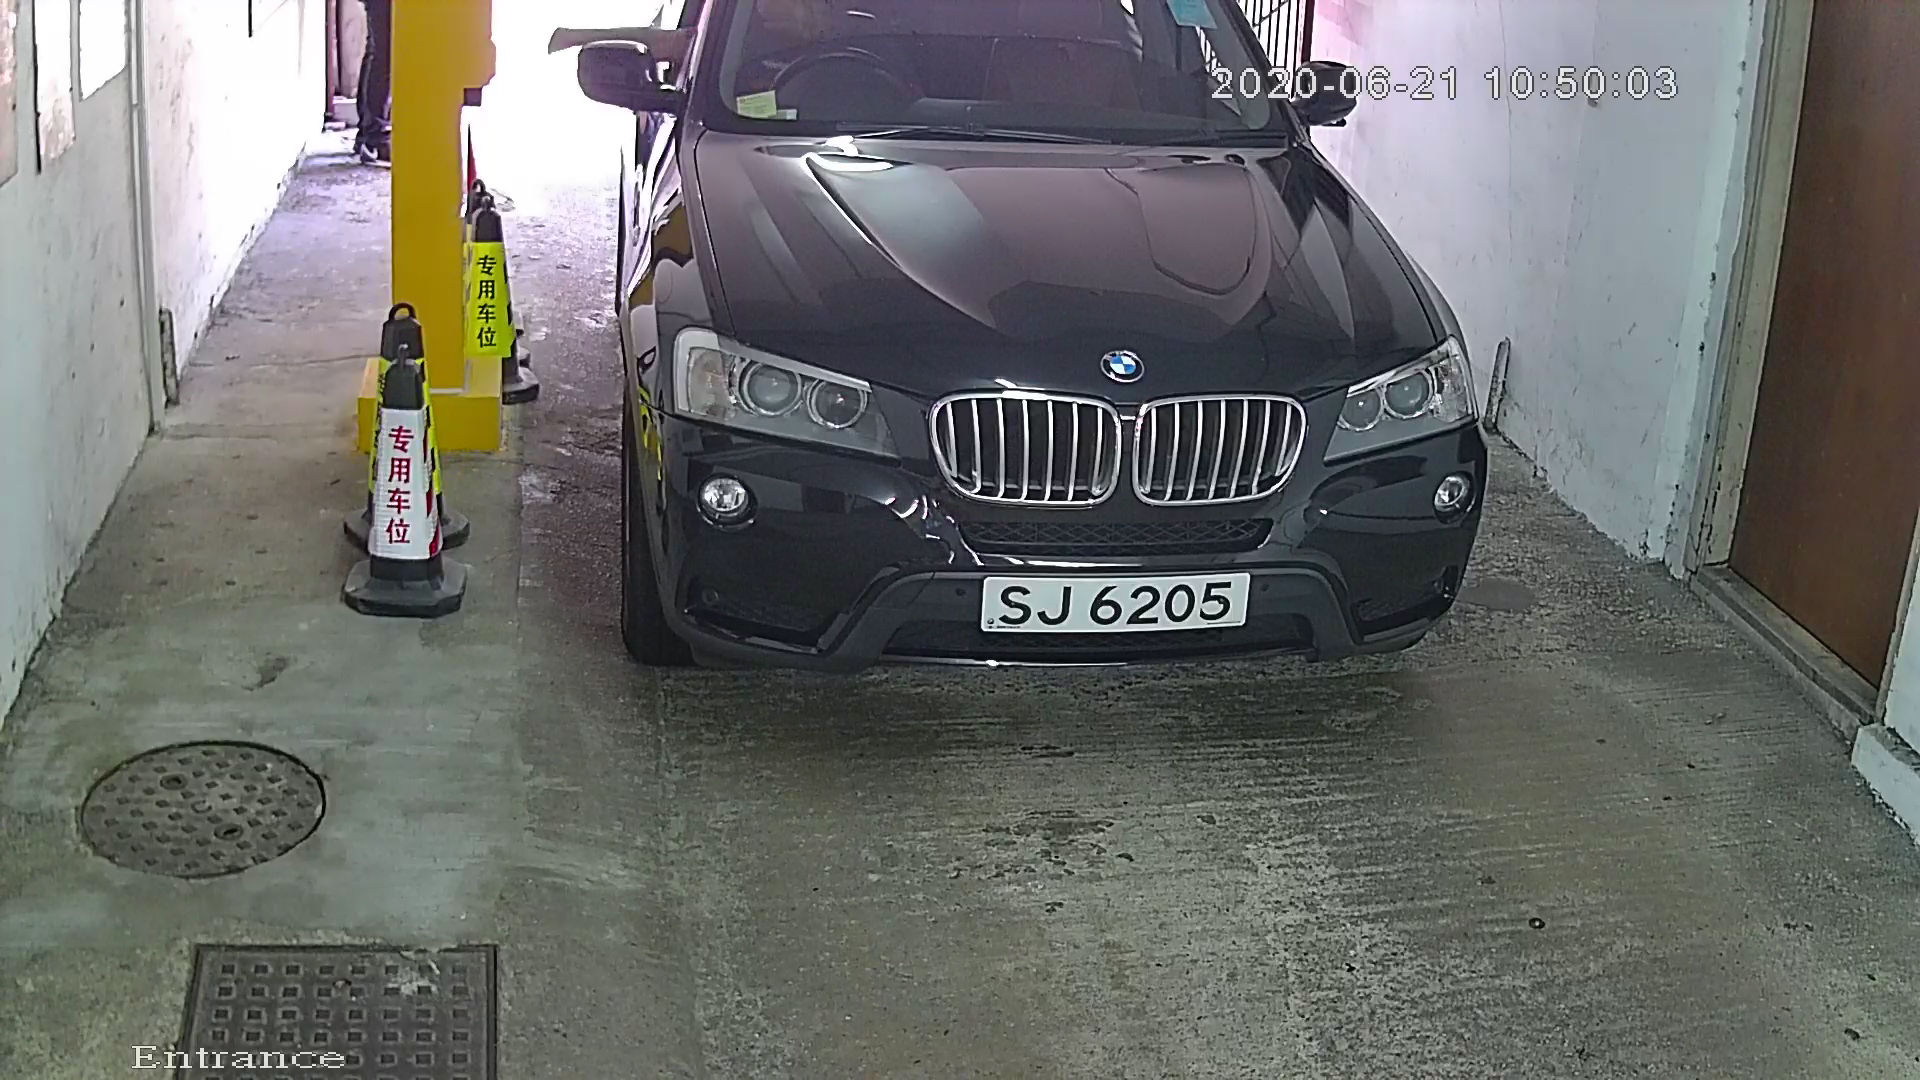privatecar: (559, 3, 1564, 740)
